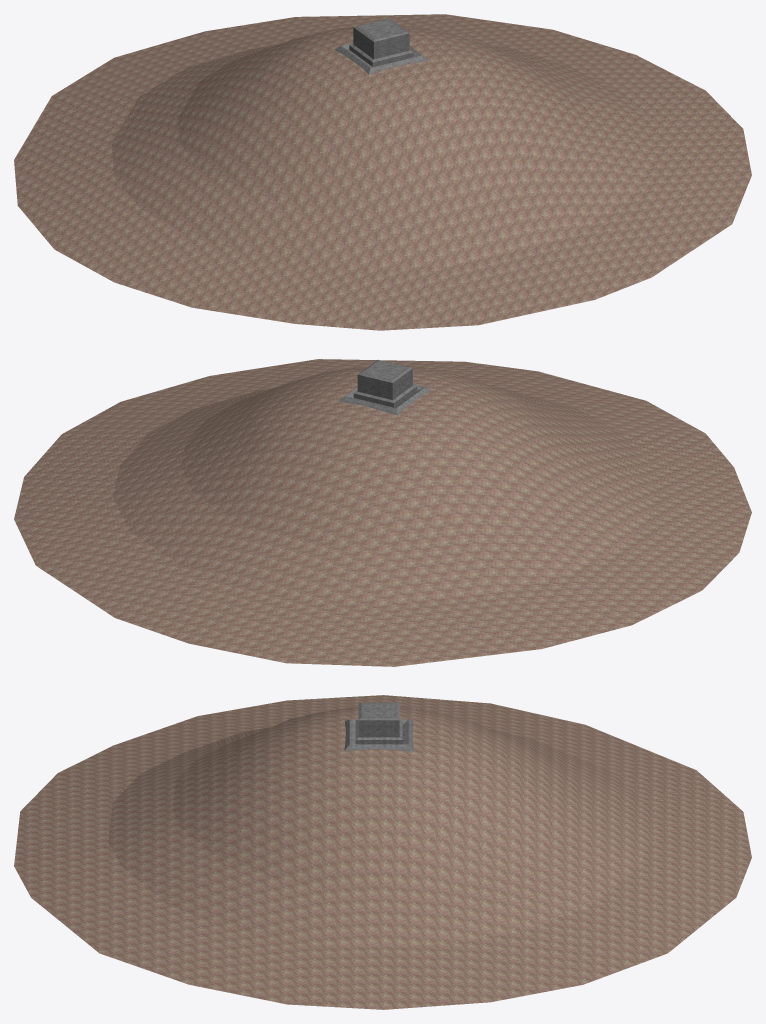
File: island2.obj
3 renders of one model, top to bottom at view 1: azimuth 30°, elevation 25°; view 2: azimuth 150°, elevation 25°; view 3: azimuth 270°, elevation 25°, orthographic.
Visible parts, largest first — view 1: land_Sphere.001, podium_Cube_Cube.001; view 2: land_Sphere.001, podium_Cube_Cube.001; view 3: land_Sphere.001, podium_Cube_Cube.001.
Part boxes in pixels (x1=…): land_Sphere.001: x1=14, y1=14, x2=751, y2=330; podium_Cube_Cube.001: x1=334, y1=18, x2=428, y2=74; land_Sphere.001: x1=14, y1=359, x2=751, y2=666; podium_Cube_Cube.001: x1=338, y1=360, x2=431, y2=415; land_Sphere.001: x1=14, y1=695, x2=751, y2=1009; podium_Cube_Cube.001: x1=344, y1=702, x2=414, y2=751.
Size of the model in its own units: 117 by 24.53 by 116.
Materials: 2 (2 with a texture image).
